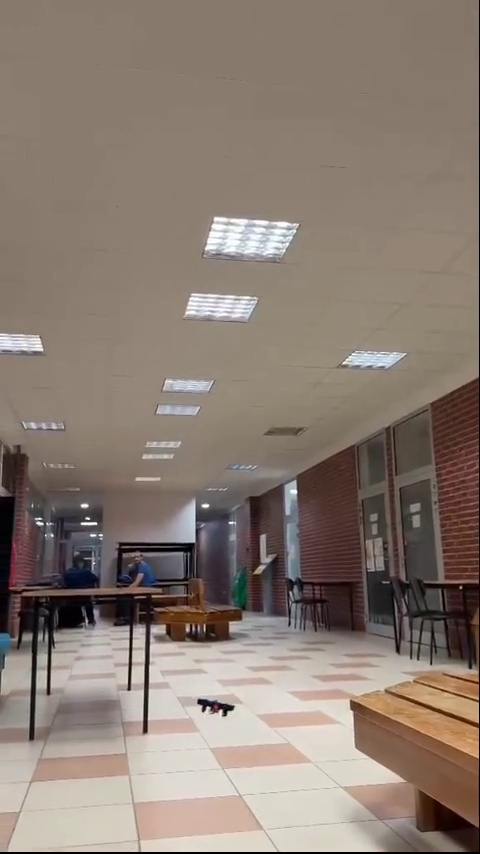drone: (195, 698, 234, 717)
no vest: (54, 548, 93, 608), (119, 548, 152, 599)
